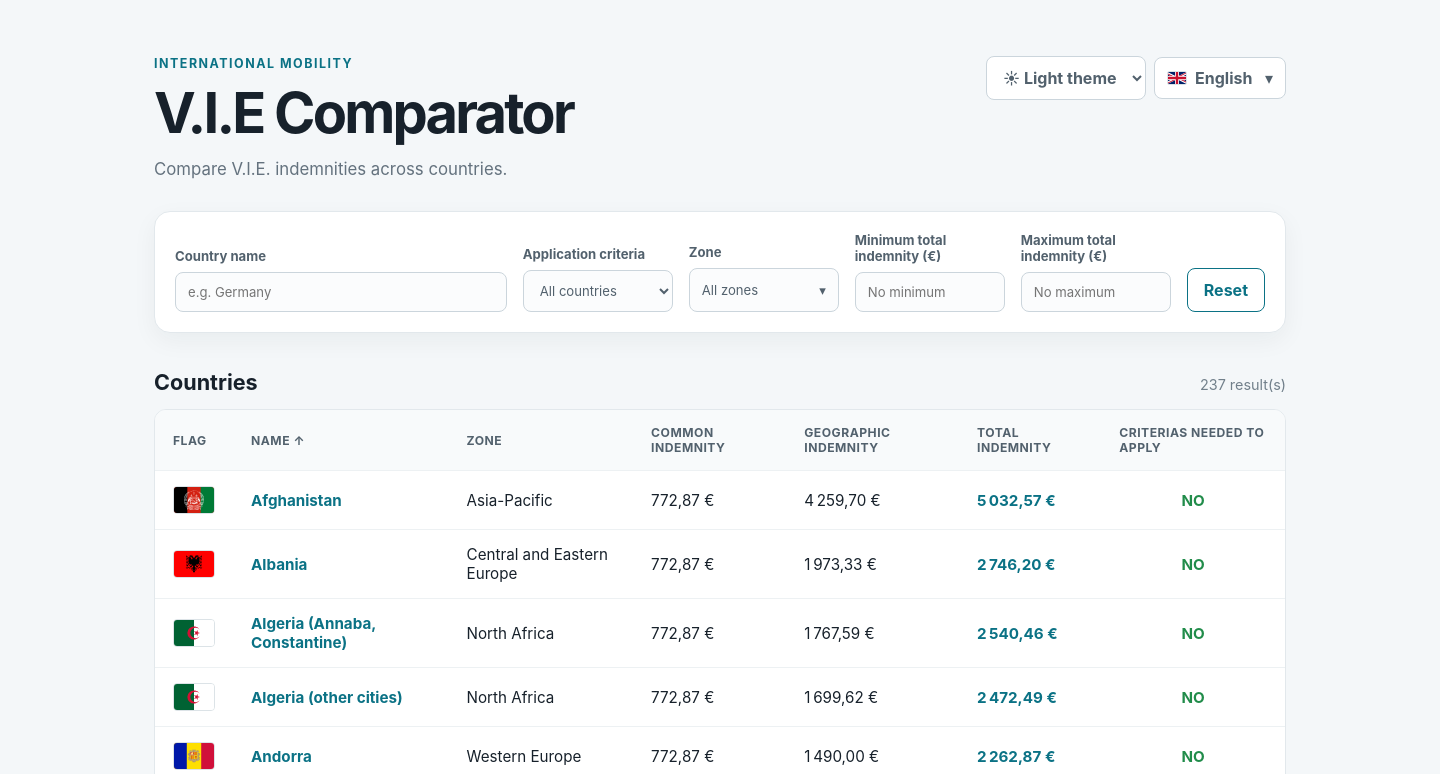
Test: Integration tests: V.I.E Comparator › uses sentence case and accents for French country names
Step 1. Click the button with test id "language-selector" → (1220, 78), box [1154,57,1286,99]
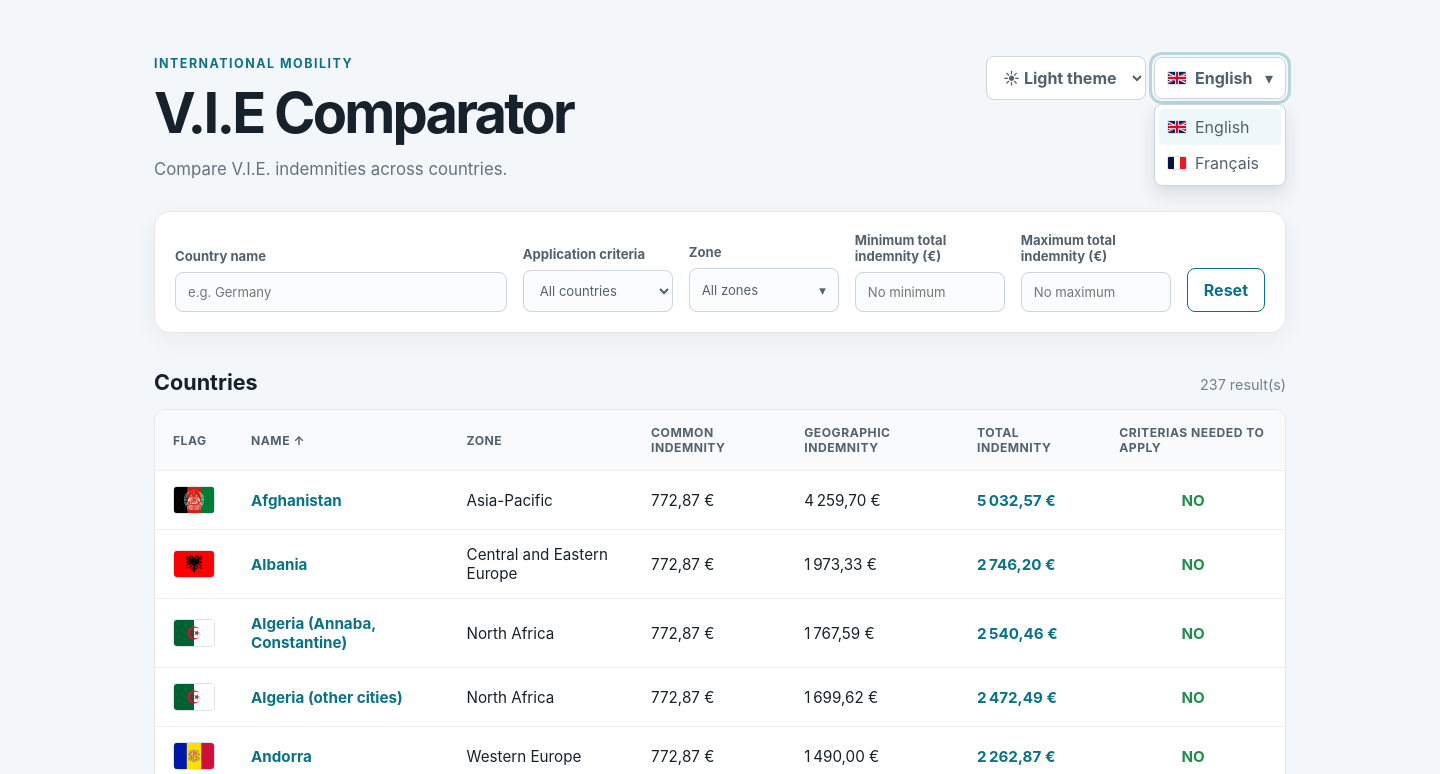
Step 2. Click the option with test id "language-option-fr" → (1220, 163), box [1159,145,1281,181]
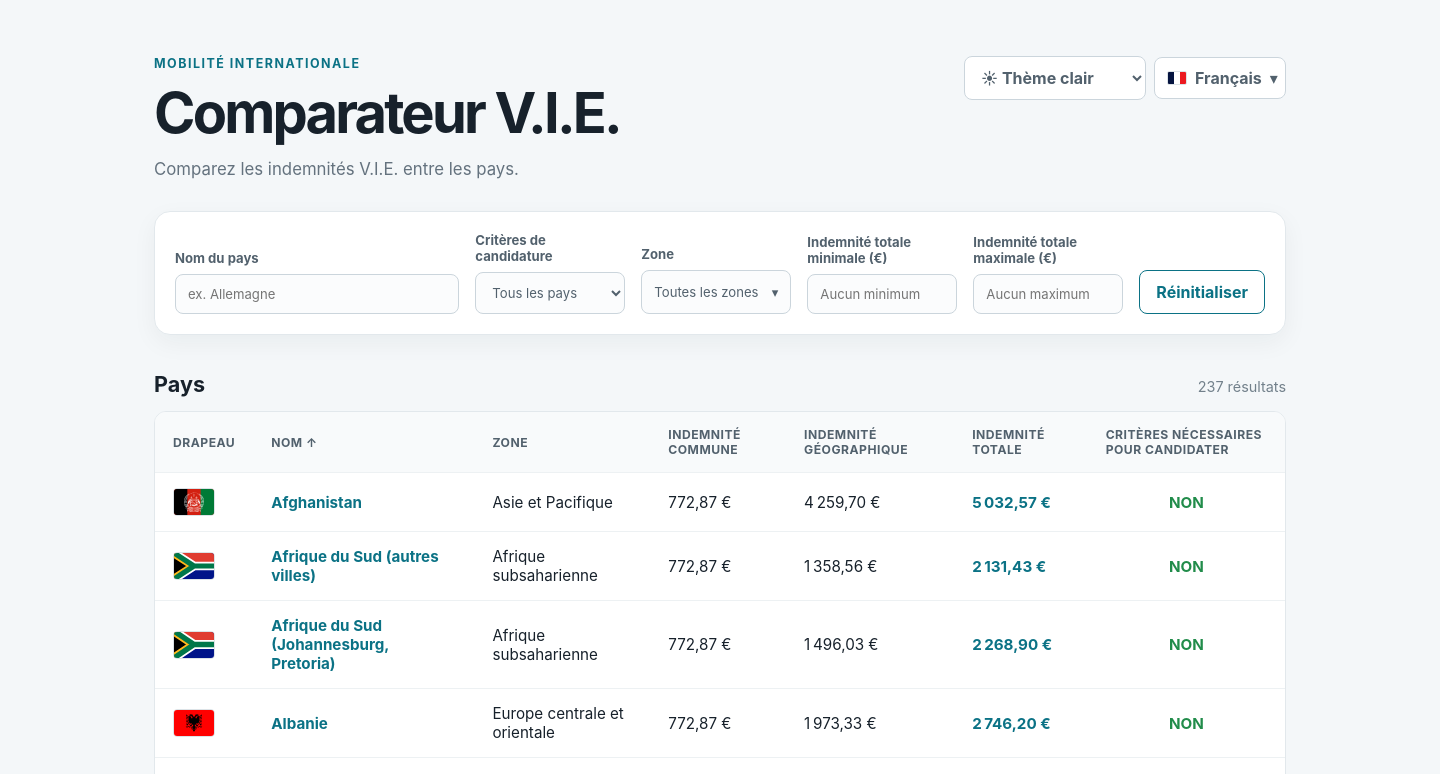
Step 3. Type "CAP-VERT" into the search field with test id "name-filter" → (317, 294), box [175,274,459,314]
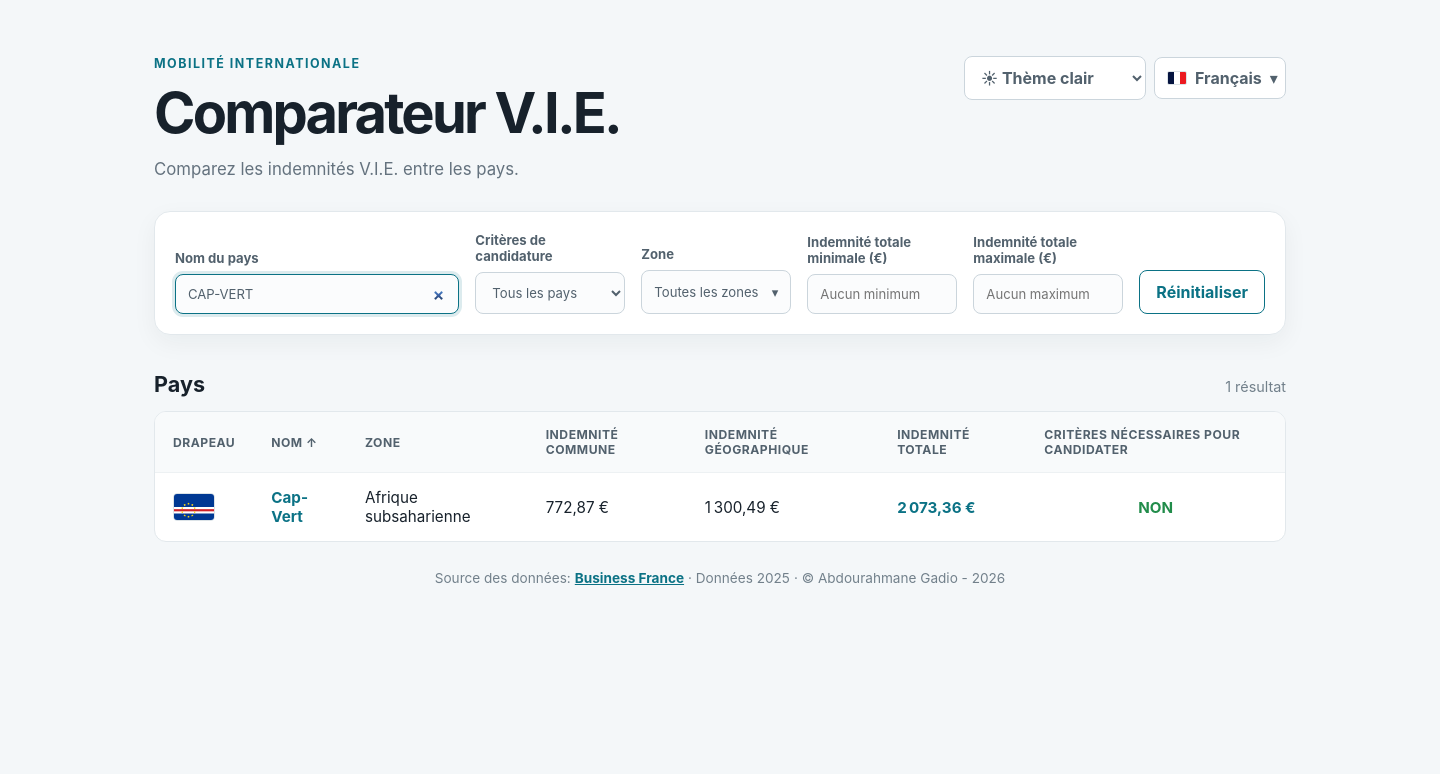
Step 4. Replace the text in the search field with test id "name-filter" with "COREE DU SUD" → (317, 294), box [175,274,459,314]
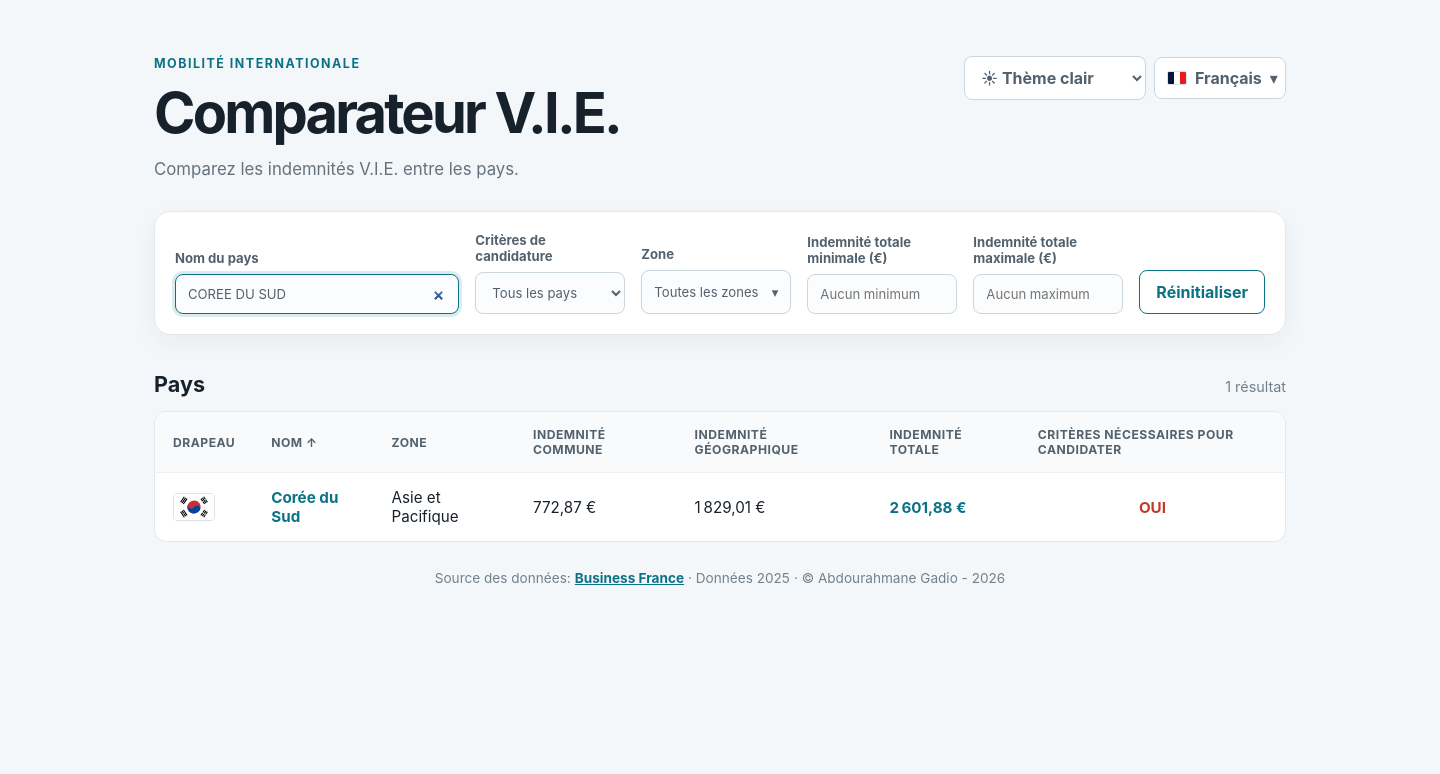
Step 5. Replace the text in the search field with test id "name-filter" with "BRESIL" → (317, 294), box [175,274,459,314]
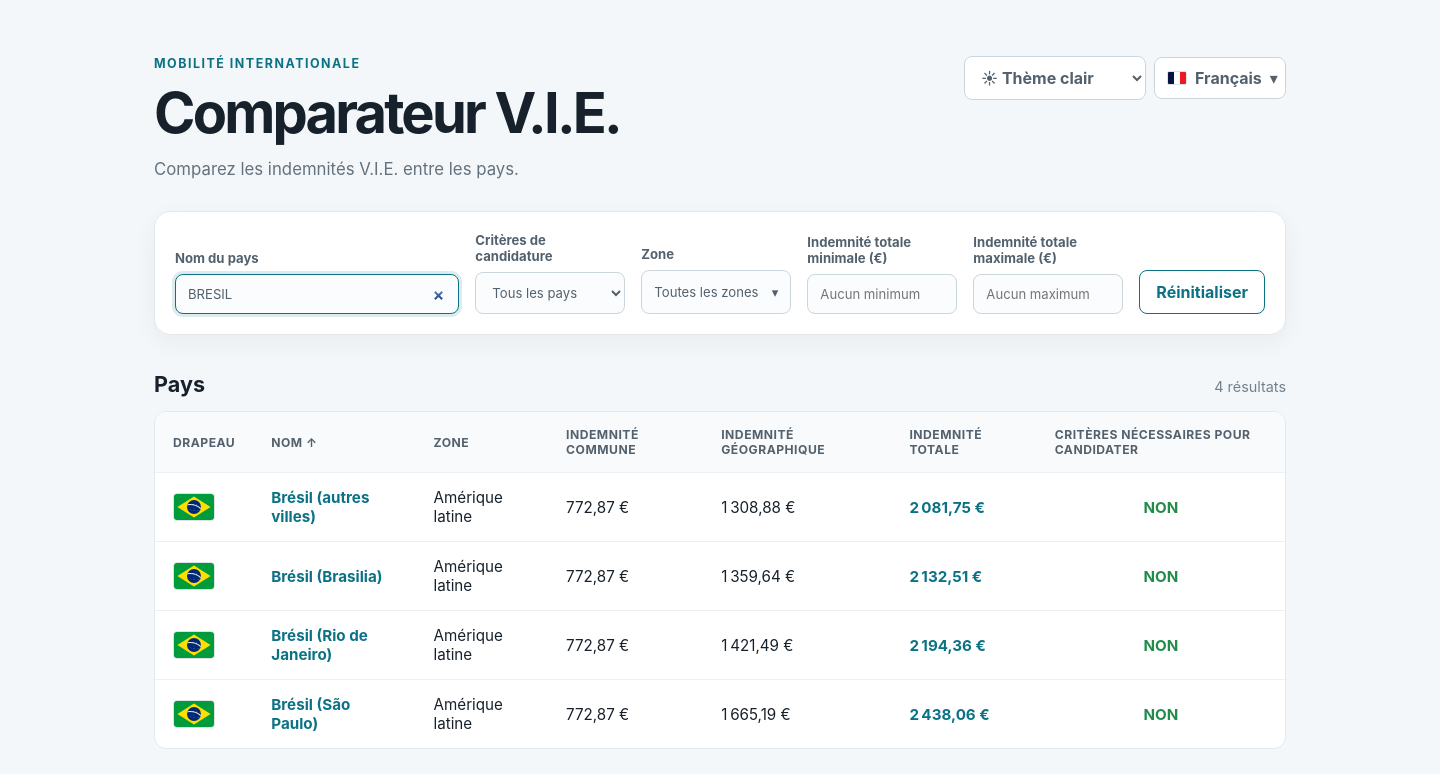
Result: the button "Brésil (São Paulo)" is shown at [271,695,398,733]
